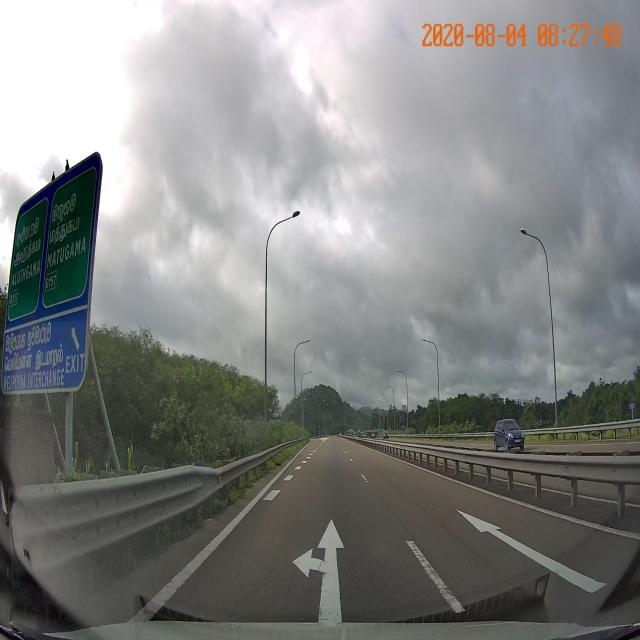forward_lft: (142, 501, 470, 609)
